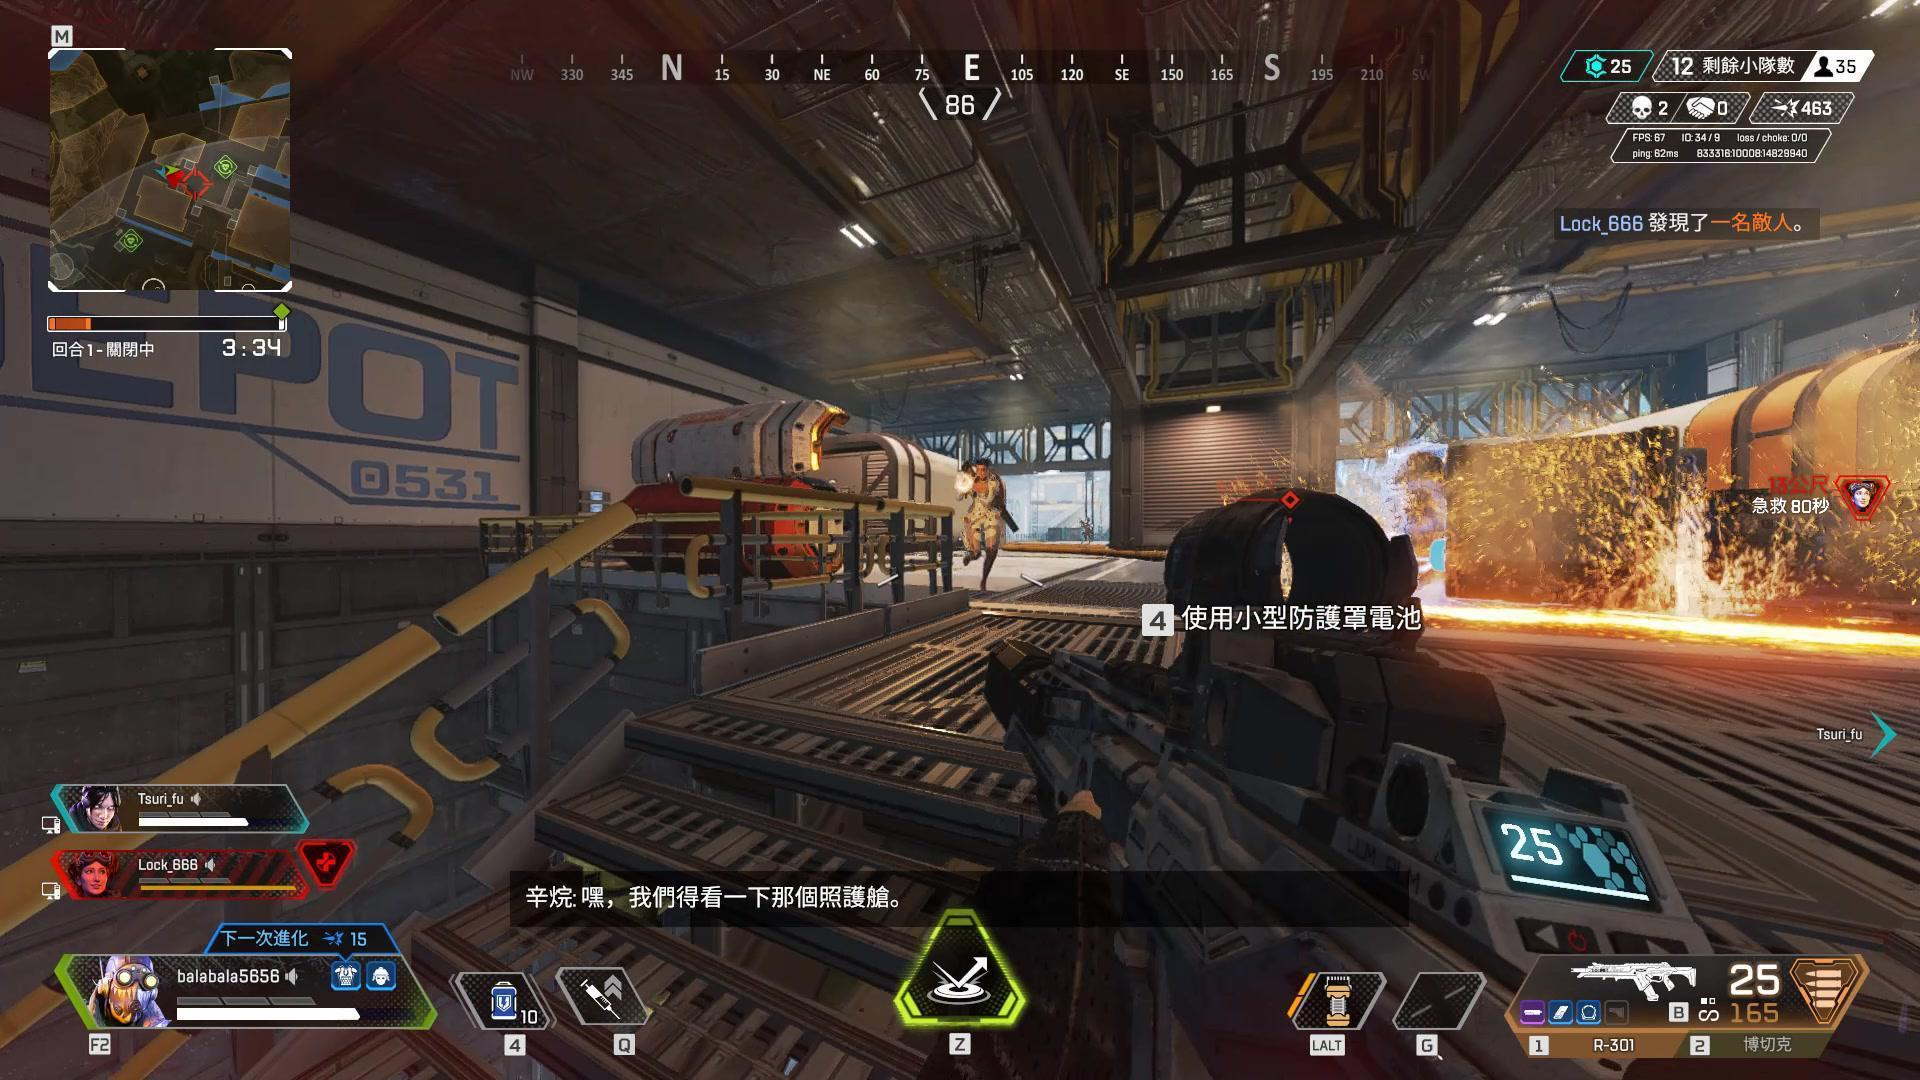avatar: (956, 457, 1008, 593)
